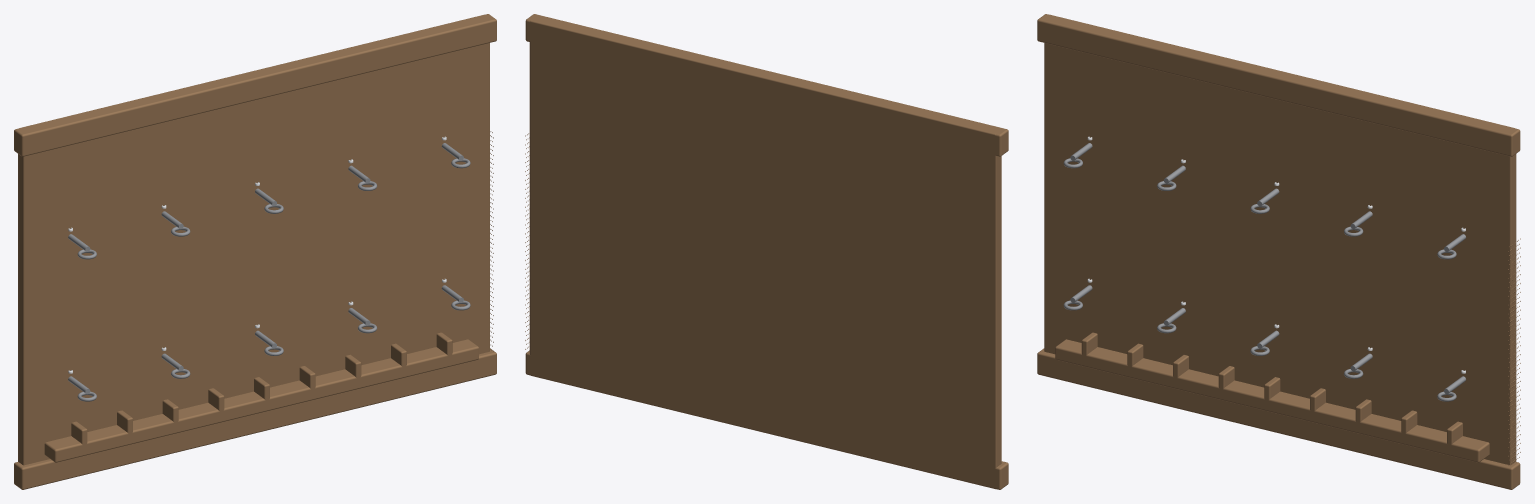
Rendered from mega-weapon-pack-melee-wall-rack-b8419ff7__33428.glb.
The picture shows the model from 3 angles, left to right: view 1: azimuth 30°, elevation 25°; view 2: azimuth 150°, elevation 25°; view 3: azimuth 330°, elevation 25°; orthographic projection.
Visible parts, largest first — view 1: melee-wall-rack; view 2: melee-wall-rack; view 3: melee-wall-rack.
Part boxes in pixels (x1,y1,x2,y2): melee-wall-rack: (14,14,496,489); melee-wall-rack: (525,14,1008,489); melee-wall-rack: (1037,14,1520,489).
Bounding box in the file's own units: 1.12 × 0.8 × 0.1286.
